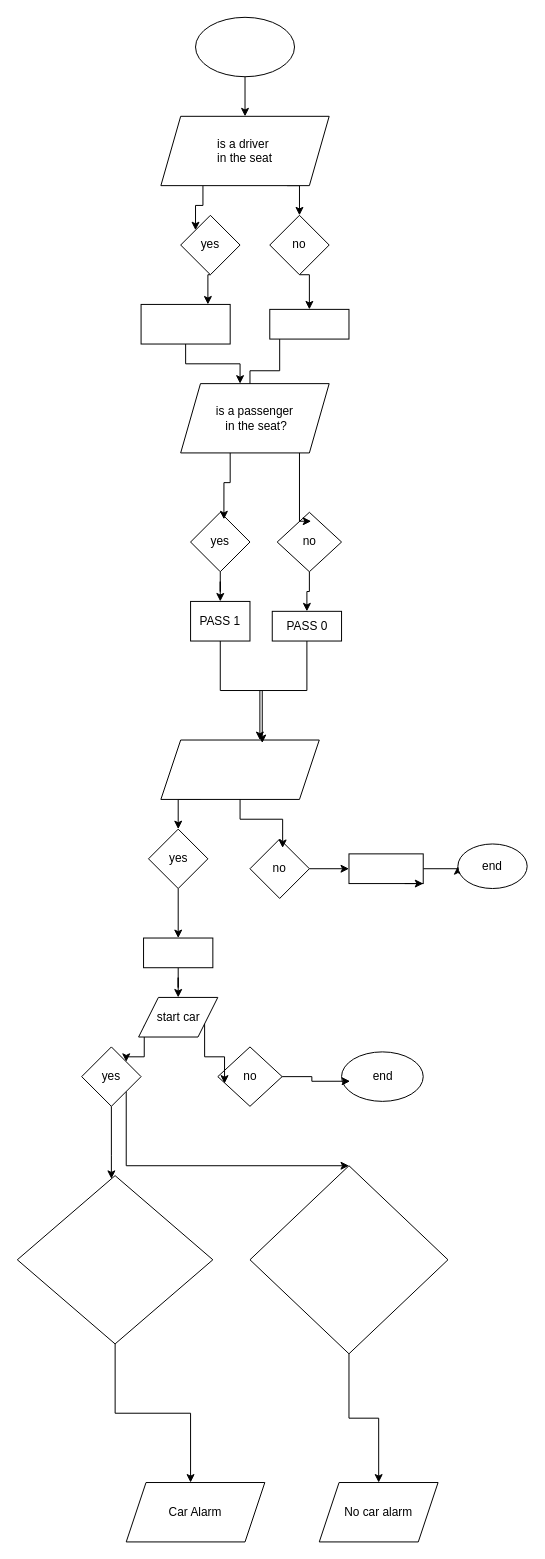
Image size: 545x1559. Some labels were removed from this diagram. The shapes that lost their labels are listed below. From the top down, each one's box as (x1, y1, x2, y2) in pixels, then its label:
(195, 16, 295, 77): Start
(140, 303, 230, 344): DRIV 0
(269, 308, 349, 339): DRIV 1
(160, 739, 319, 799): Put key in ignition
(348, 853, 423, 884): IGN 0
(143, 937, 213, 968): IGN 1
(16, 1175, 213, 1344): IF DIVD = 1 and PASS = 1 and BELTD = 0 and BELTP= 0
(249, 1165, 448, 1354): IF DIVD =1 and PASS = 1 and BELTD = 1 and BELTP =1
